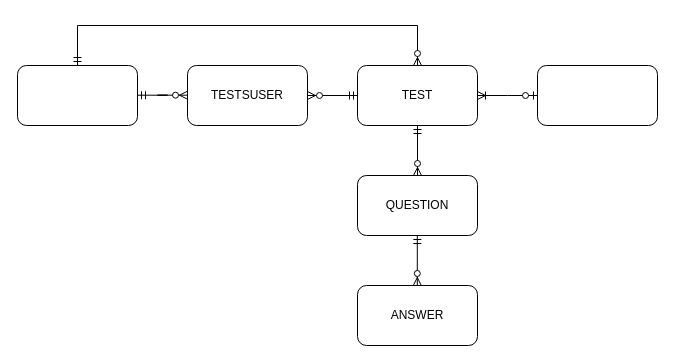
This 675x363 diagram has some shape labels left out. Here are the shapes that lost their labels. From the top down, the box of each, then its label:
(16, 64, 138, 126): USER
(536, 64, 658, 126): CATEGORY
